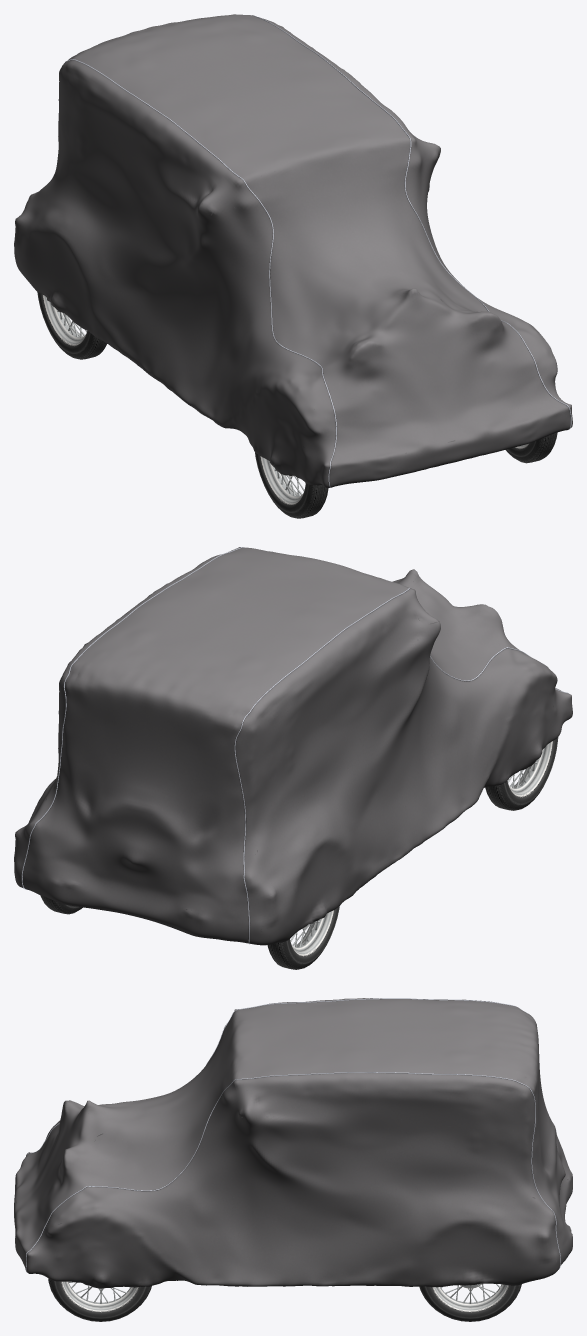
Rendered from ford1929.glb.
3 views of the same model, one above another, from view 1: azimuth 30°, elevation 25°; view 2: azimuth 150°, elevation 25°; view 3: azimuth 270°, elevation 25° (orthographic). The views are drawn at different scales.
Parts seen in each view (by area): view 1: CAPA, RODA, LINHA; view 2: CAPA, RODA, LINHA; view 3: CAPA, RODA, LINHA.
Part boxes in pixels (x1,y1,x2,y2): CAPA: (14,14,572,487); RODA: (37,292,557,518); LINHA: (36,15,571,487); CAPA: (14,547,572,945); RODA: (40,706,558,969); LINHA: (21,547,568,944); CAPA: (14,998,572,1288); RODA: (48,1278,521,1321); LINHA: (25,998,560,1272).
Bounding box in the file's own units: 5.45 × 5.45 × 11.44.
4 materials, 3 textured.
